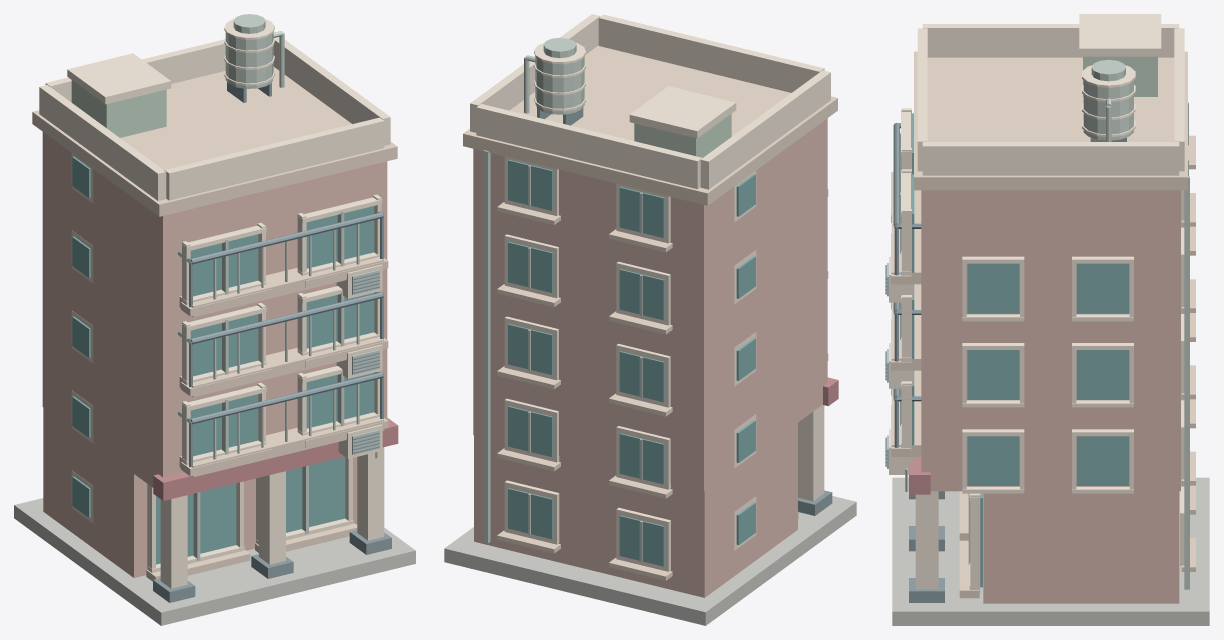
Rendered from town-shophouse-2.glb.
3 views of the same model, side by side, from view 1: azimuth 30°, elevation 25°; view 2: azimuth 150°, elevation 25°; view 3: azimuth 270°, elevation 25° (orthographic). The views are drawn at different scales.
Visible parts, largest first — view 1: paving; view 2: paving; view 3: paving.
Part boxes in pixels (<box>): paving: <box>14,14,415,625</box>; paving: <box>444,14,856,625</box>; paving: <box>885,14,1209,625</box>.
Bounding box in the file's own units: 2.2 × 4.01 × 2.25.
1 material, 1 textured.
